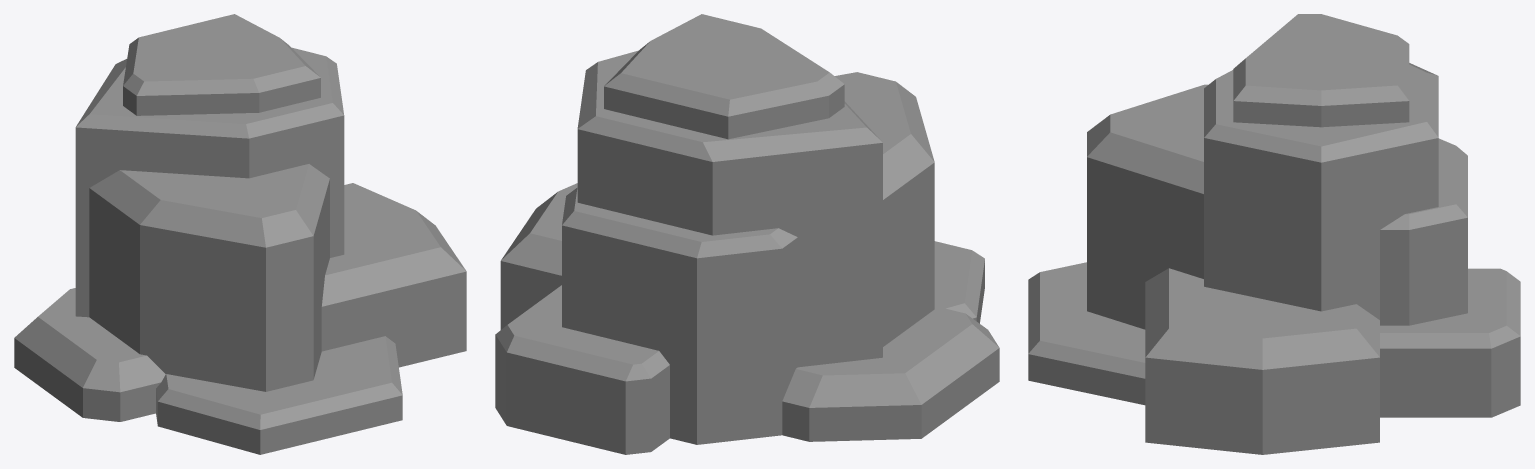
The model's file is Rock_Medium_04.fbx.
3 renders of one model, left to right at view 1: azimuth 30°, elevation 25°; view 2: azimuth 150°, elevation 25°; view 3: azimuth 270°, elevation 25°, orthographic. The views are drawn at different scales.
Parts seen in each view (by area): view 1: Rock_Medium_04; view 2: Rock_Medium_04; view 3: Rock_Medium_04.
Boxes of the visible parts, bbox=[...] form: Rock_Medium_04: bbox=[14, 14, 466, 454]; Rock_Medium_04: bbox=[495, 14, 999, 454]; Rock_Medium_04: bbox=[1028, 14, 1520, 454].
Bounding box in the file's own units: 4 × 2.8 × 4.2.
